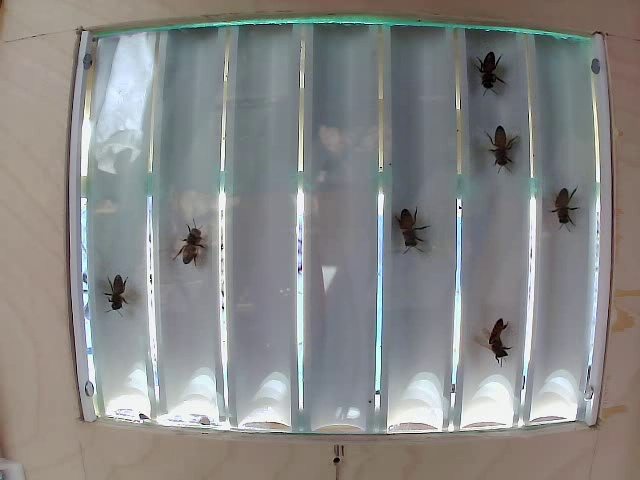bee: (385, 193, 428, 258), (93, 272, 140, 324), (170, 215, 211, 272), (480, 122, 521, 178), (470, 312, 512, 361), (540, 176, 579, 225), (471, 39, 497, 94)
